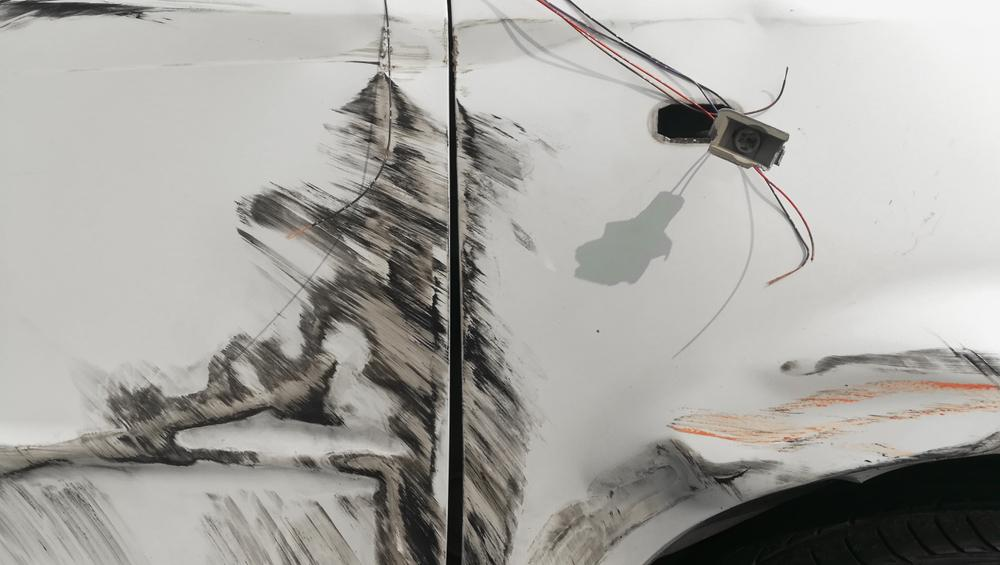scratch: (0, 7, 451, 565), (524, 342, 1000, 565), (456, 97, 559, 565), (0, 0, 296, 31)
